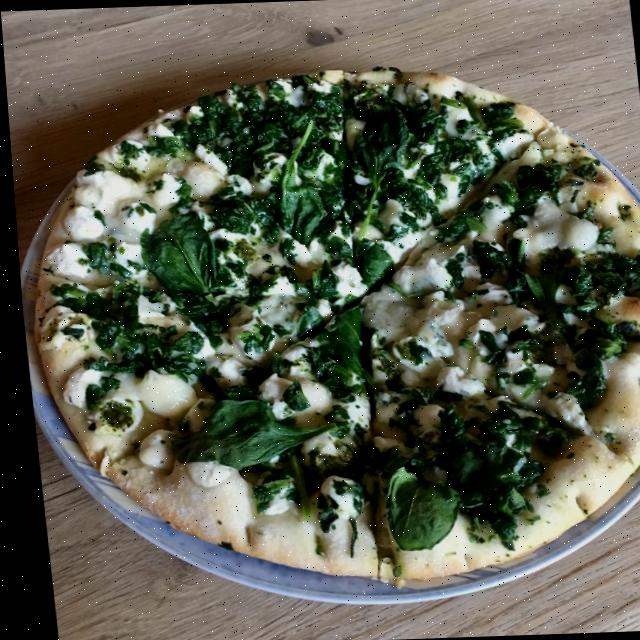basil: (160, 394, 335, 472), (340, 106, 417, 246), (257, 116, 329, 245), (370, 463, 458, 554), (130, 211, 218, 299)
pizza: (3, 59, 640, 601)
